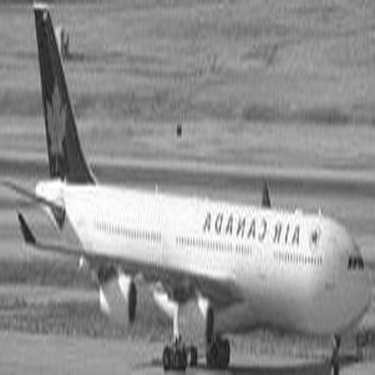airplane: (3, 2, 368, 373)
